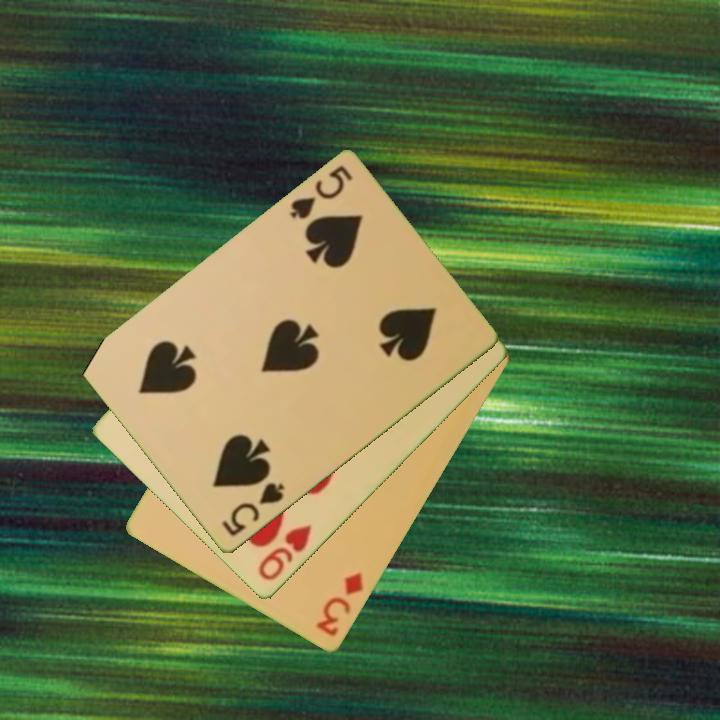3d: (313, 569, 367, 640)
5s: (218, 479, 288, 540), (286, 162, 356, 223)
9h: (255, 522, 315, 585)
